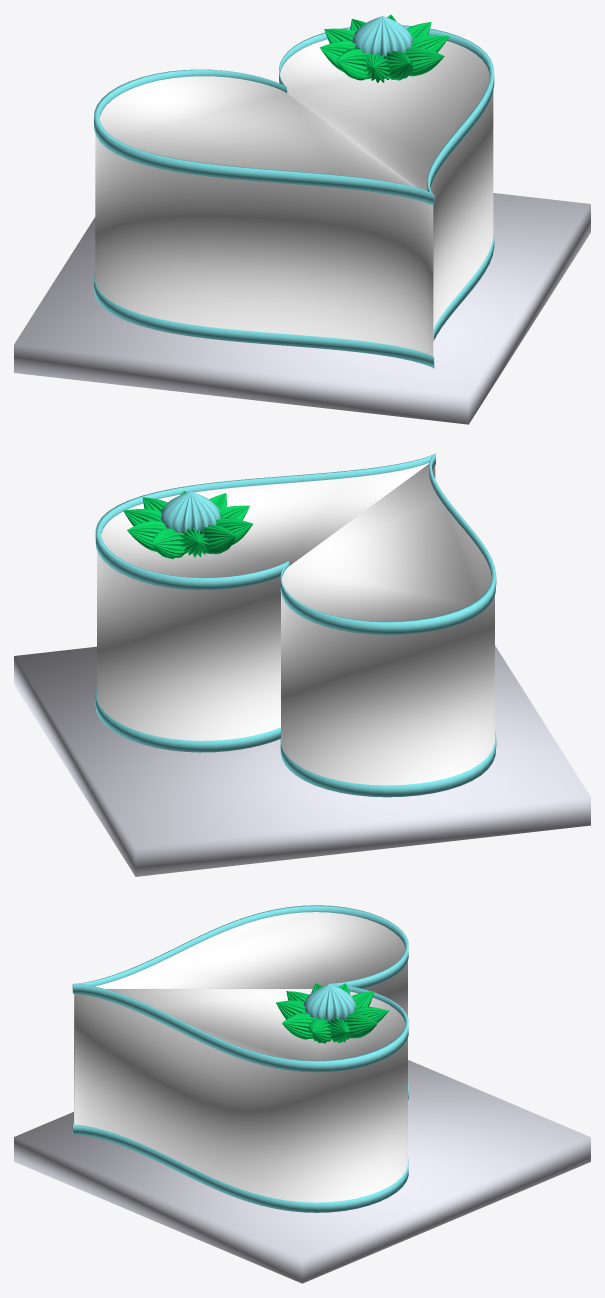
Rendered from heart_vanilla_style3.glb.
3 views of the same model, one above another, from view 1: azimuth 30°, elevation 25°; view 2: azimuth 150°, elevation 25°; view 3: azimuth 270°, elevation 25° (orthographic). The views are drawn at different scales.
Parts seen in each view (by area): view 1: HeartCake, IcingStand, IcingRing, IcingRing.001, leaf, design1; view 2: HeartCake, IcingStand, IcingRing, IcingRing.001, leaf, design1; view 3: HeartCake, IcingStand, IcingRing, IcingRing.001, leaf, design1.
Boxes of the visible parts, x1,y1,x2,y2 form: HeartCake: [95, 39, 493, 356]; IcingStand: [14, 193, 590, 424]; IcingRing: [94, 25, 494, 206]; IcingRing.001: [94, 228, 494, 368]; leaf: [319, 14, 449, 82]; design1: [352, 16, 412, 59]; HeartCake: [97, 463, 494, 785]; IcingStand: [14, 645, 590, 876]; IcingRing: [95, 453, 496, 634]; IcingRing.001: [95, 688, 496, 797]; leaf: [123, 491, 252, 559]; design1: [160, 491, 220, 533]; HeartCake: [74, 912, 407, 1202]; IcingStand: [14, 1060, 590, 1283]; IcingRing: [72, 905, 408, 1072]; IcingRing.001: [72, 1081, 408, 1212]; leaf: [276, 983, 389, 1043]; design1: [303, 984, 356, 1021].
Bounding box in the file's own units: 4.24 × 1.77 × 4.24.
